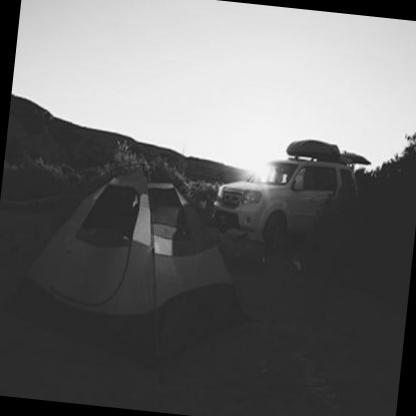car: (203, 143, 382, 258)
